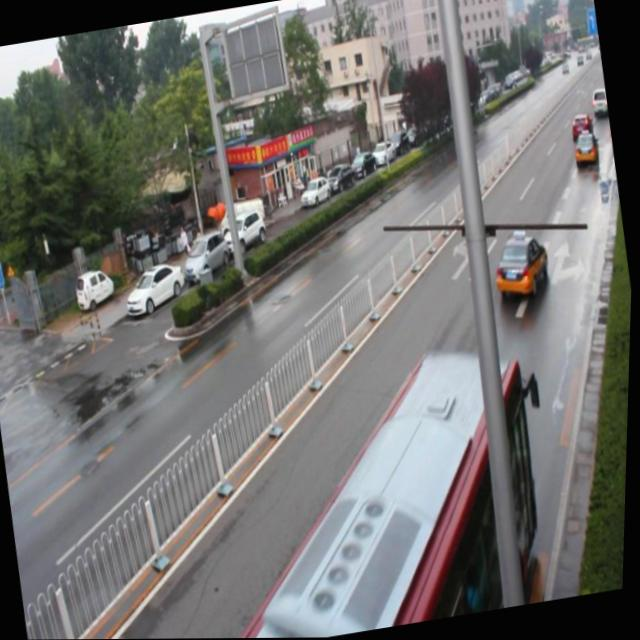car: (489, 223, 553, 304), (570, 133, 601, 171), (568, 114, 595, 142)
van: (184, 330, 574, 639)
